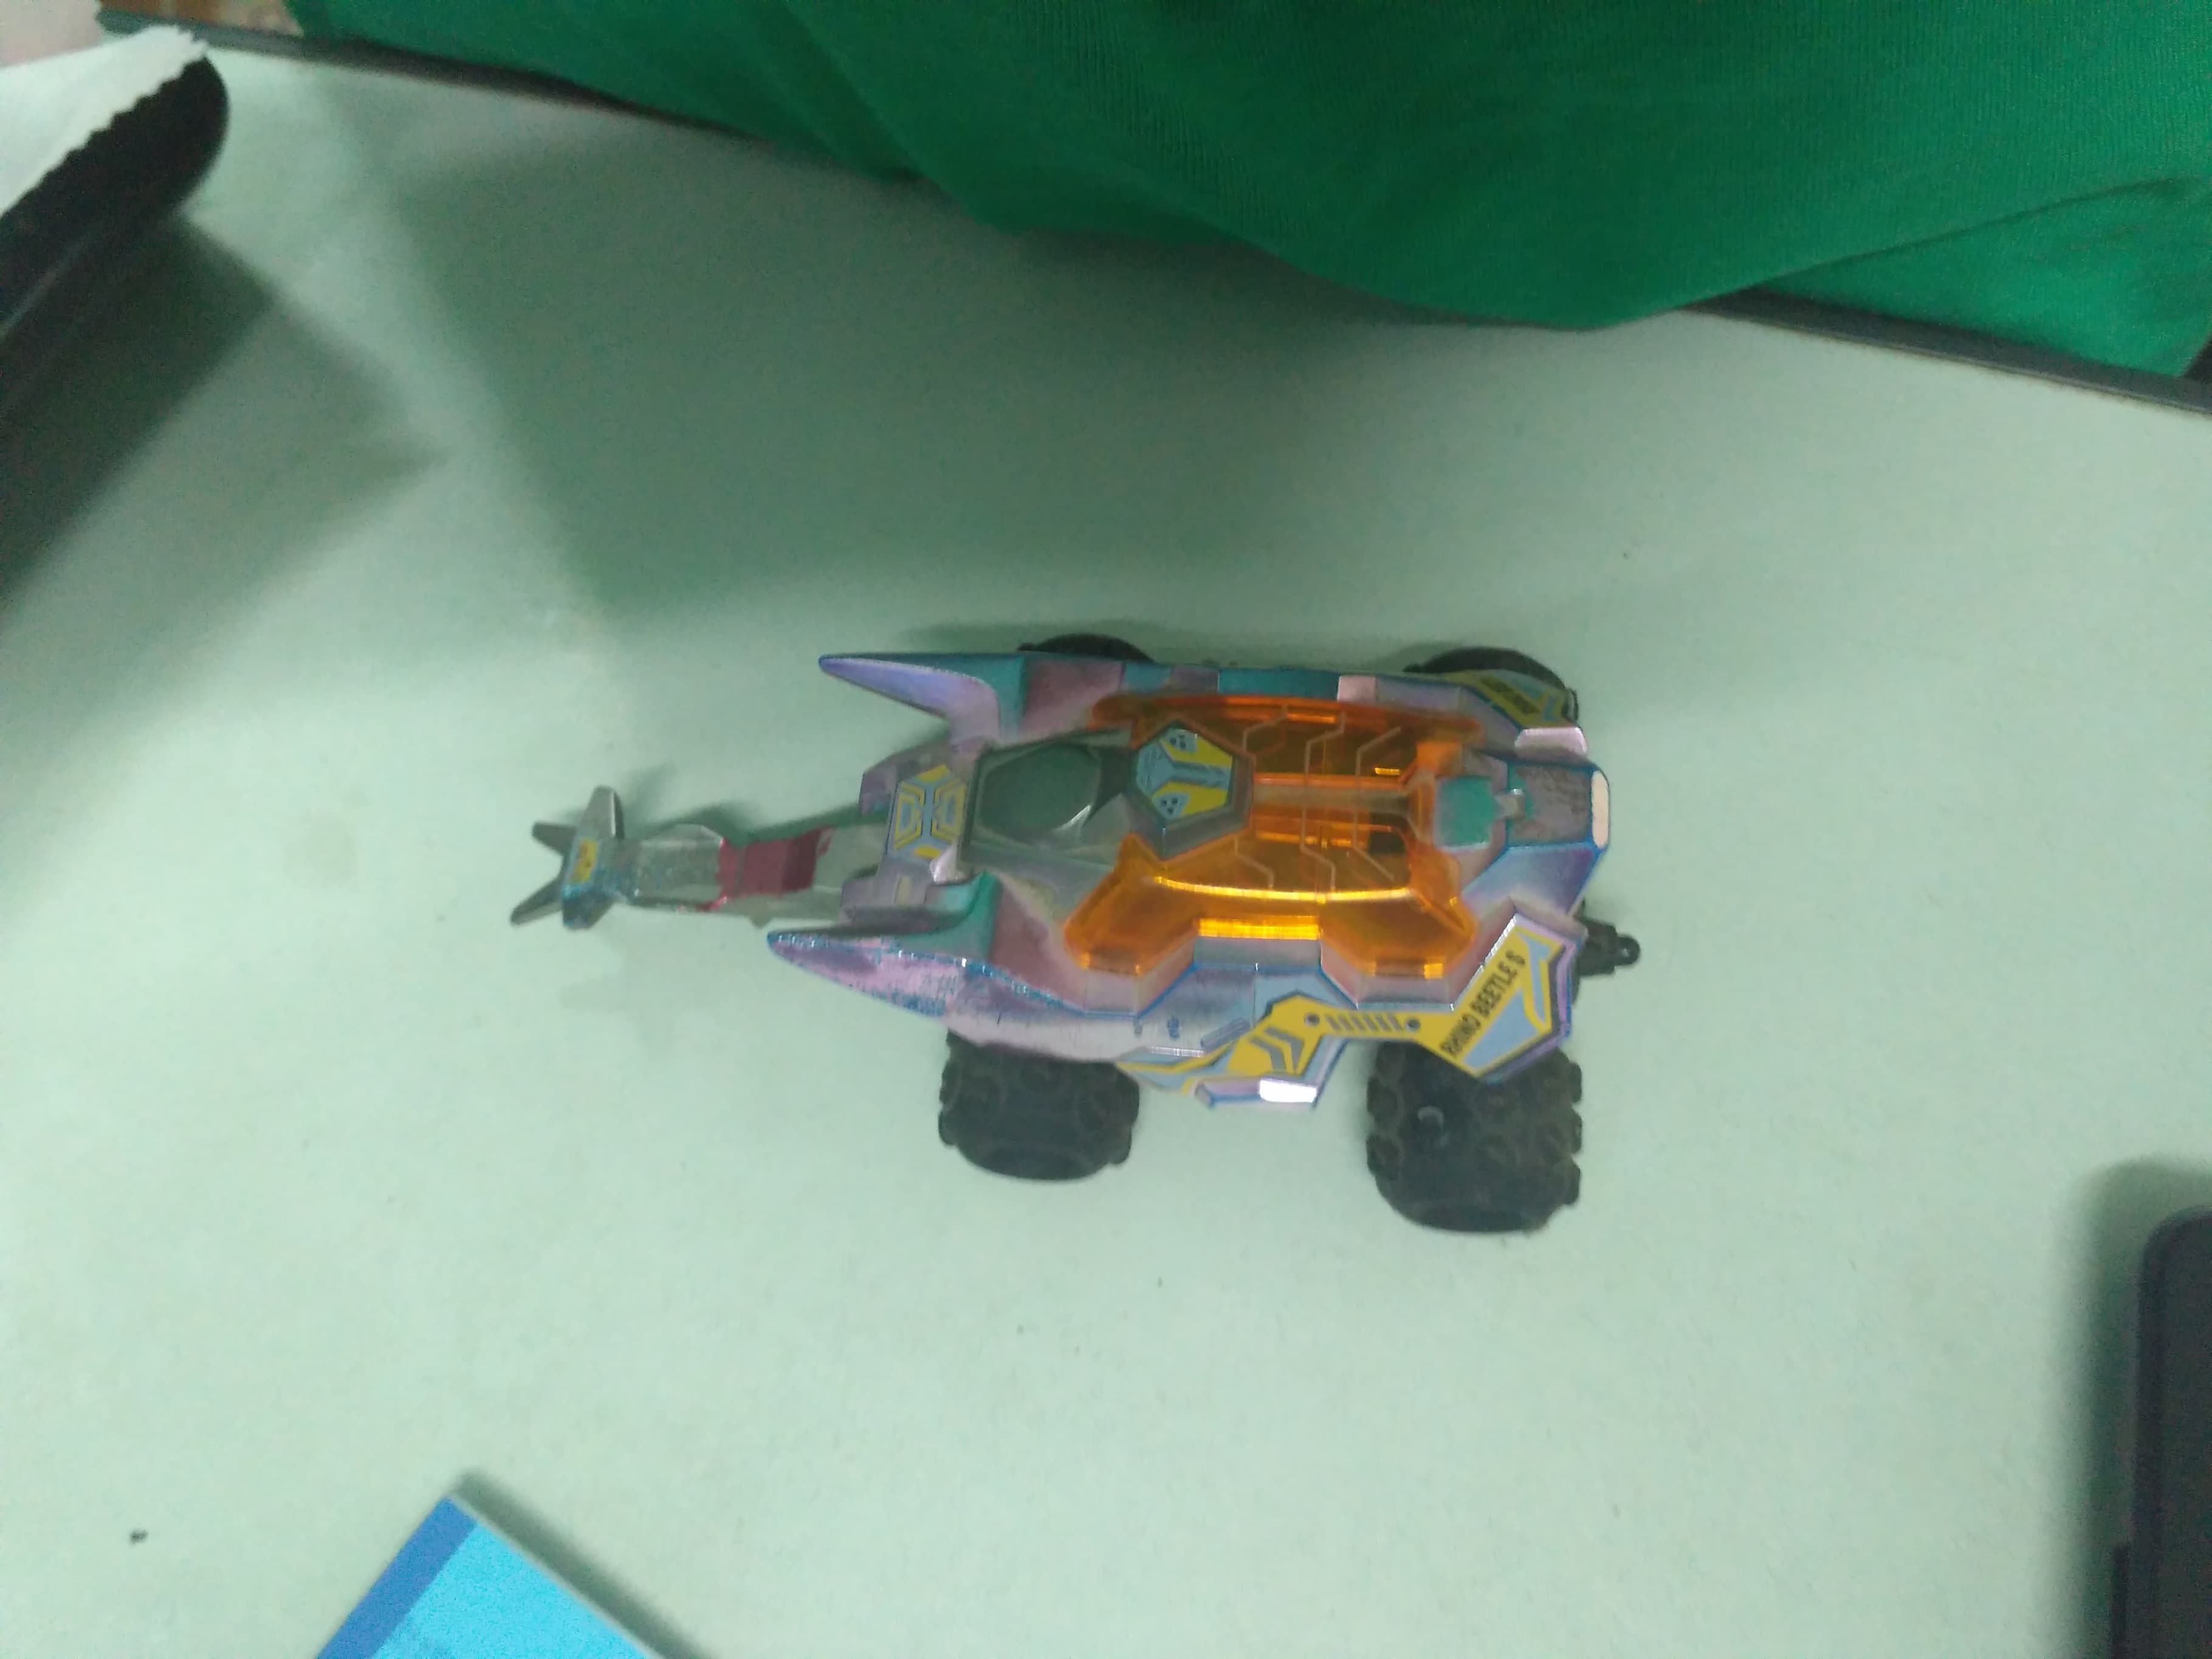rhino: (496, 626, 1651, 1241)
